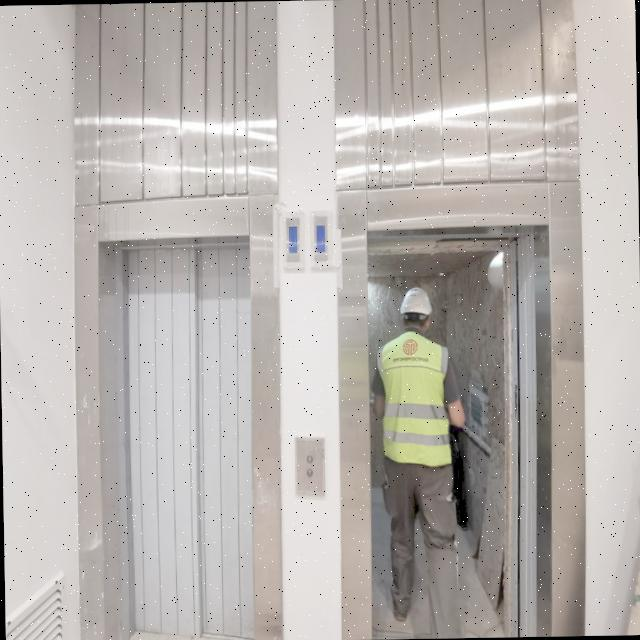Helmet: (398, 285, 435, 335)
